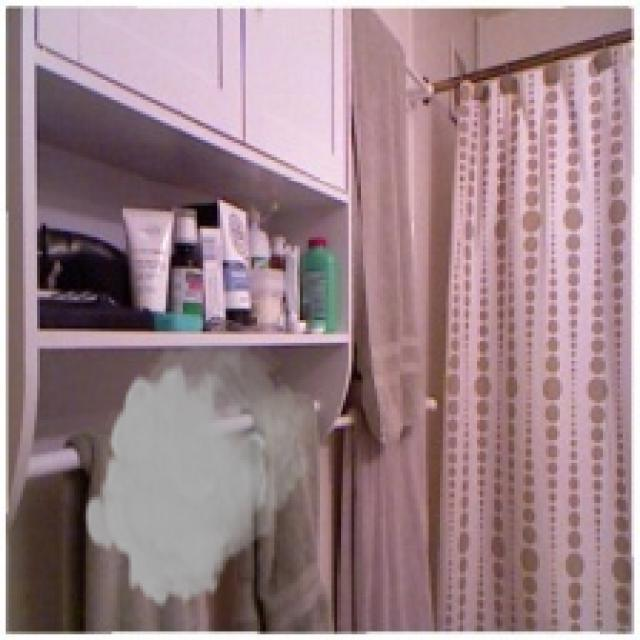smoke: (83, 343, 317, 611)
